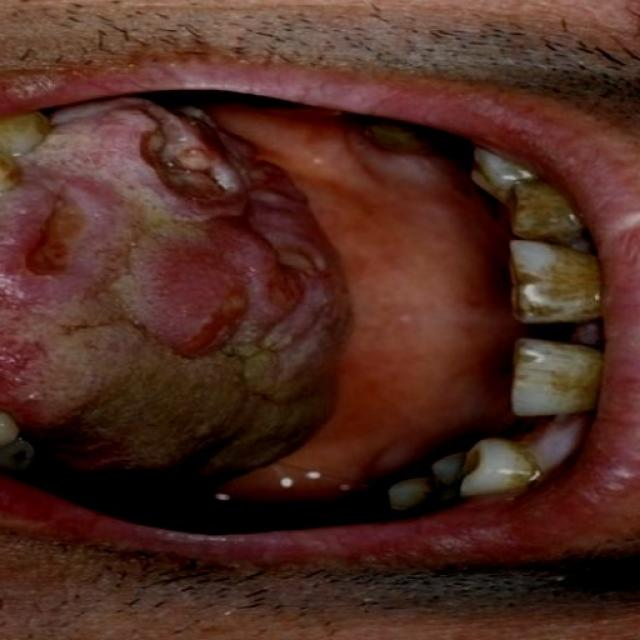cancer-detection: (0, 102, 357, 480)
processing_area: (0, 98, 505, 497)
